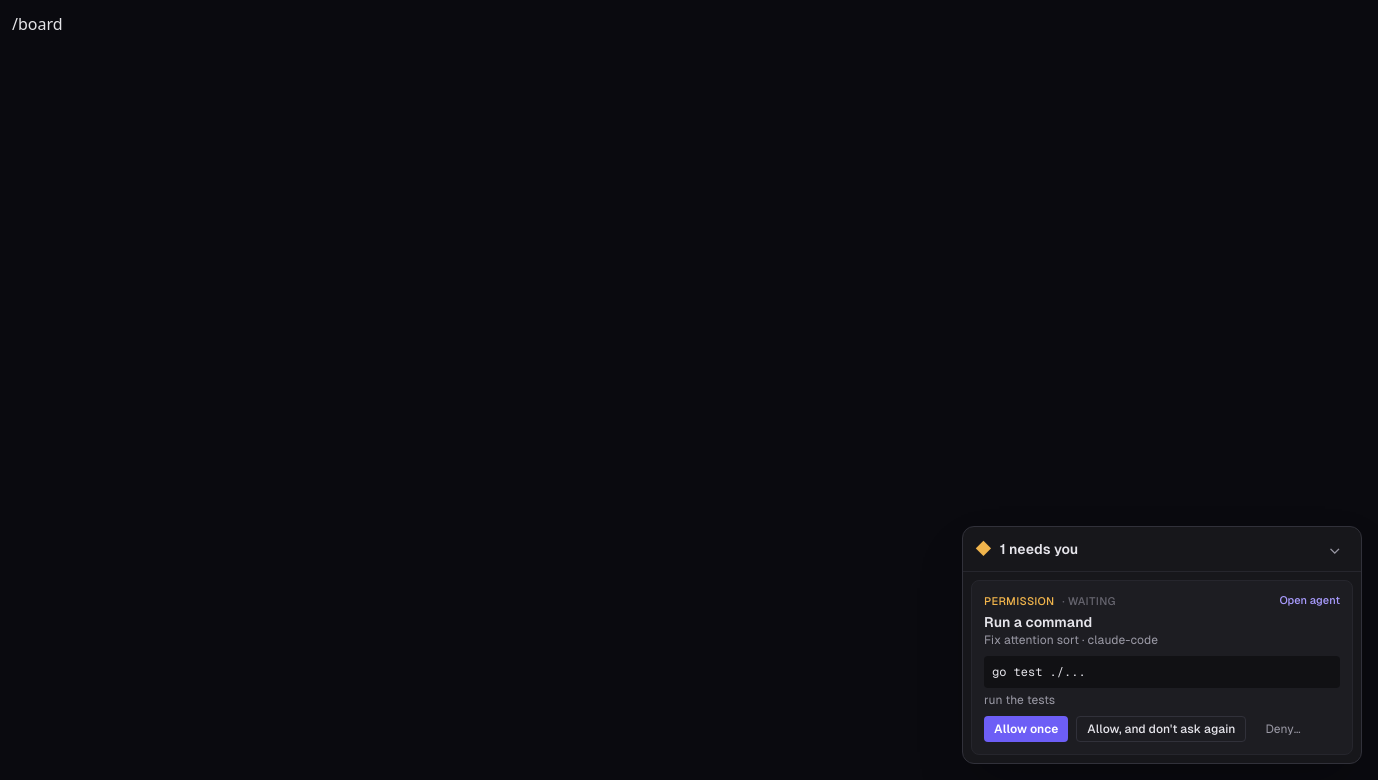
it: ApprovalTray › says why a decision failed and keeps the card
This screenshot has width=1378, height=780.
Click the button "Allow once": coordinates (1026, 729) [984,716,1068,742]
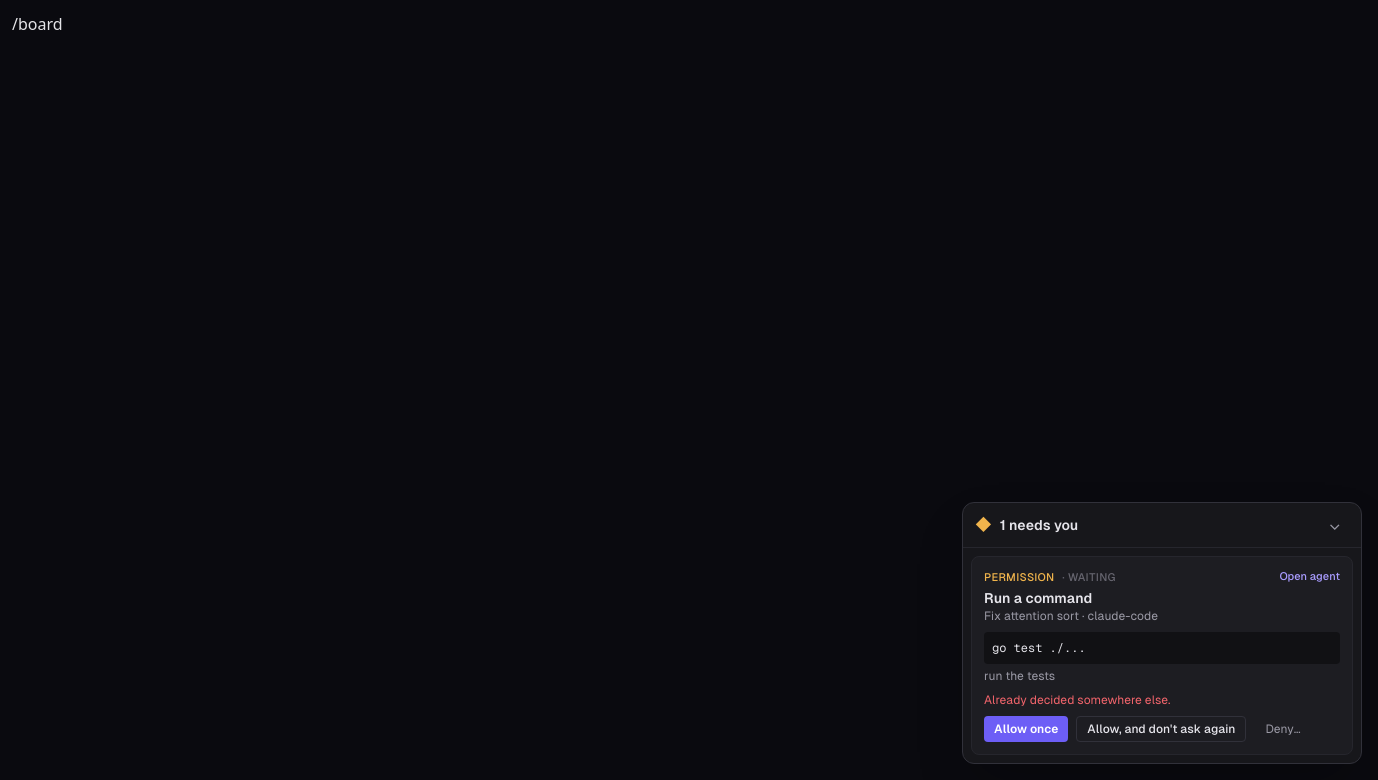
expect the heading "Run a command" is shown: met, box [984,590,1092,606]
expect the text "Already decided somewhere else." is shown: met, box [984,693,1171,707]
